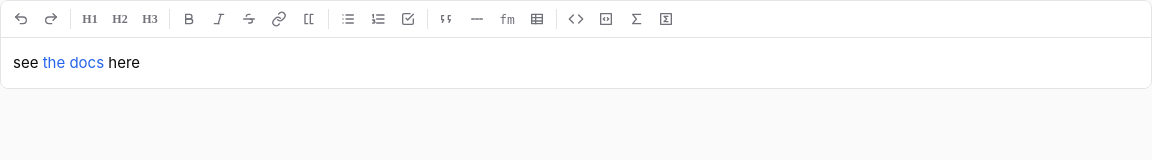
it: clicking a collapsed external link opens the URL field, prefilled
This screenshot has width=1152, height=160.
Click the text box with class "cm-inplace-link". click: [73, 62]
box: [43,53,104,72]
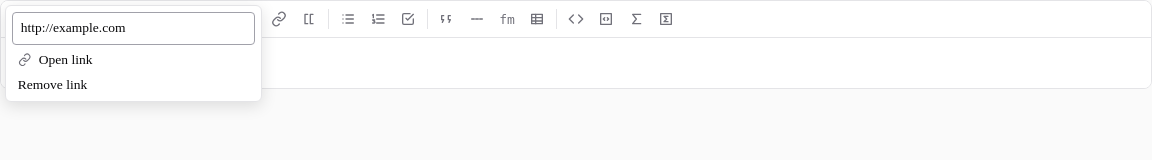
Check: the field with class "cm-inplace-menu-input" holds "http://example.com", box [12,12,255,45]
